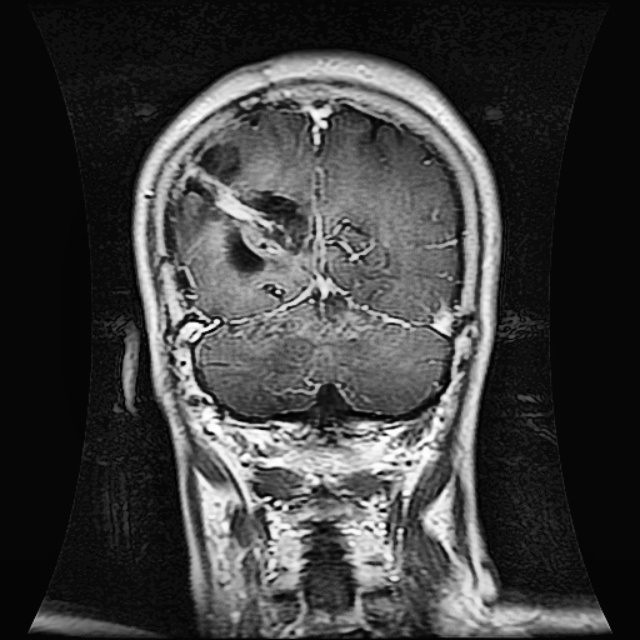Meningioma: (168, 133, 310, 277)
